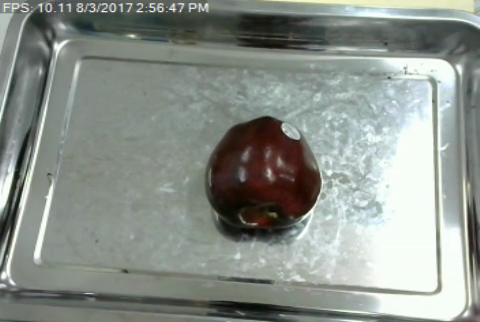Apple: (200, 112, 327, 234)
